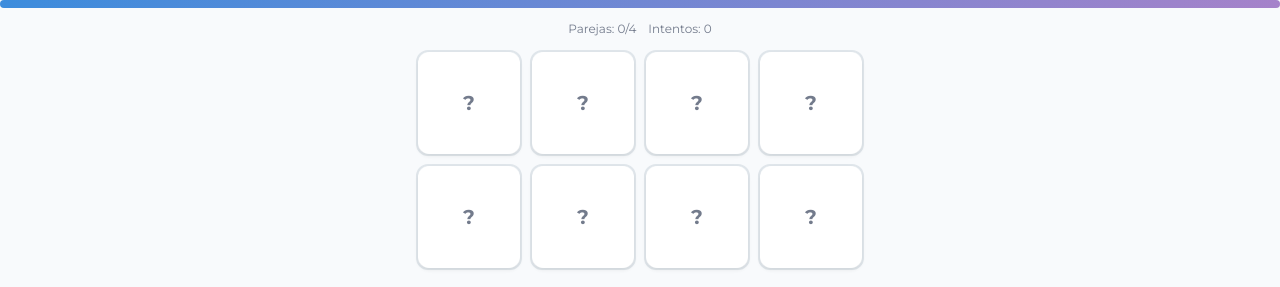
Test: Memory interaction › keeps matched cards face up and unavailable
What coordinates should you click on to do the following:
click the button "? Manzana"
I would click on:
 (469, 103)
Its box is [416,50,522,156].
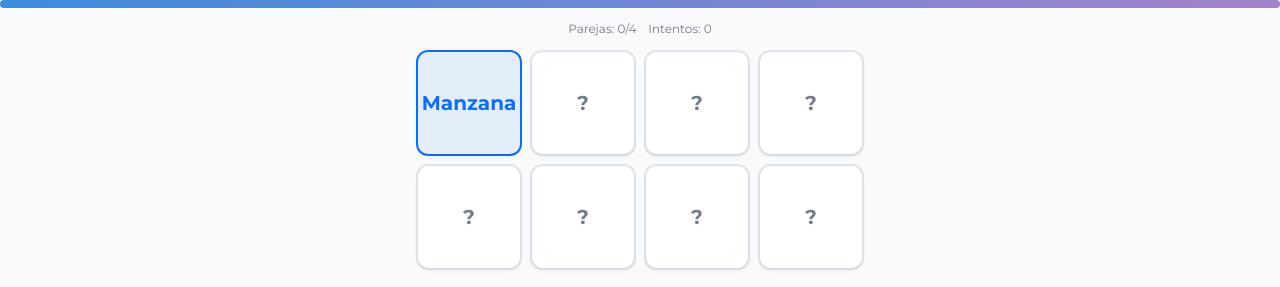
What coordinates should you click on to do the following:
click the button "? 🍎"
I would click on:
 (811, 217)
Its box is [758,164,864,270].
Wait 500 ms
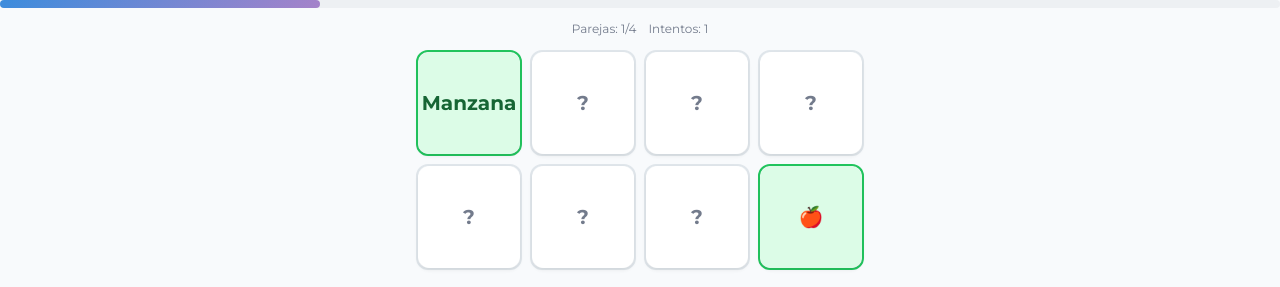
expect the button "? 🍎" is disabled: met, box [758,164,864,270]
